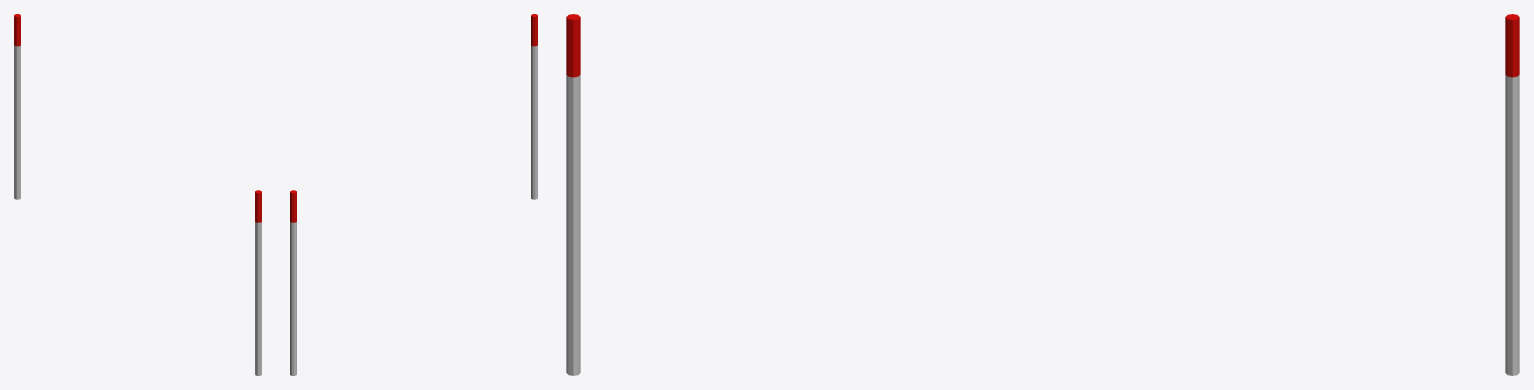
Rendered from checkpoint.fbx.
3 renders of one model, left to right at view 1: azimuth 30°, elevation 25°; view 2: azimuth 150°, elevation 25°; view 3: azimuth 270°, elevation 25°, orthographic. The views are drawn at different scales.
Visible parts, largest first — view 1: Circle; view 2: Circle; view 3: Circle.
Part boxes in pixels (x1,y1,x2,y2): Circle: [14, 14, 261, 375]; Circle: [290, 14, 537, 375]; Circle: [566, 14, 1519, 375].
Size of the model in its own units: 10.53 by 292 by 708.
